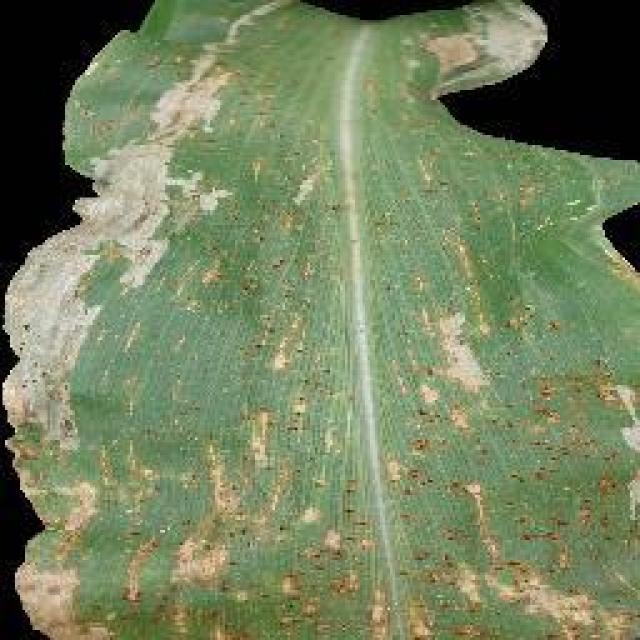Corn Common Rust: (108, 152, 628, 640)
